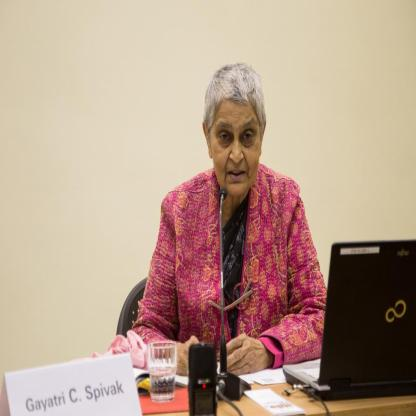board: (283, 236, 416, 401)
